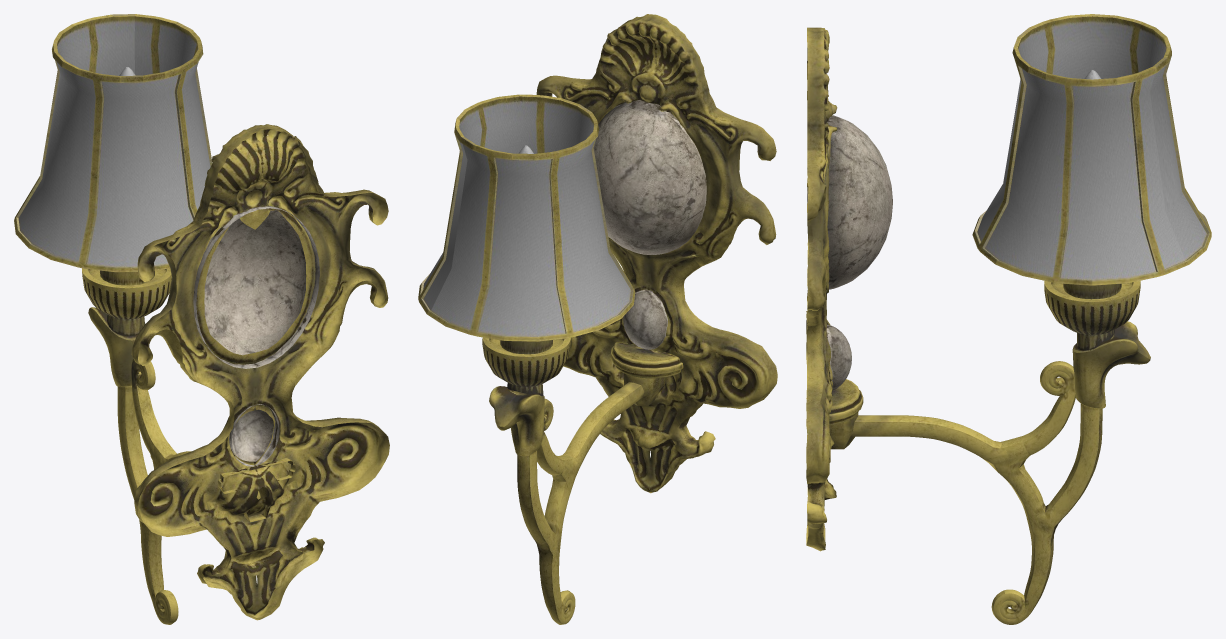
The model's file is Antique_Wall_Light.obj.
3 renders of one model, left to right at view 1: azimuth 30°, elevation 25°; view 2: azimuth 150°, elevation 25°; view 3: azimuth 270°, elevation 25°, orthographic. The views are drawn at different scales.
Visible parts, largest first — view 1: defaultMaterial; view 2: defaultMaterial; view 3: defaultMaterial.
Part boxes in pixels (x1,y1,x2,y2): defaultMaterial: (14,14,389,624); defaultMaterial: (418,14,777,624); defaultMaterial: (806,14,1211,624).
Size of the model in its own units: 0.9387 by 2 by 1.24.
1 material, 1 textured.
